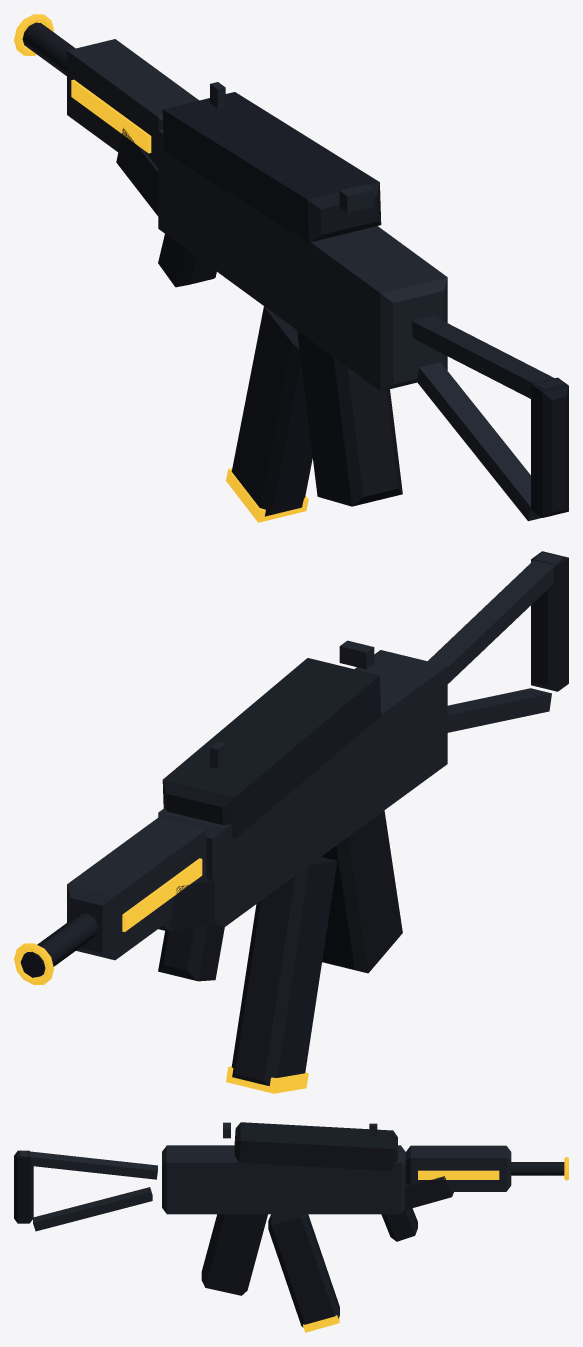
The model's file is weapon_wasp.glb.
3 views of the same model, one above another, from view 1: azimuth 30°, elevation 25°; view 2: azimuth 150°, elevation 25°; view 3: azimuth 270°, elevation 25° (orthographic). The views are drawn at different scales.
Visible parts, largest first — view 1: weapon_wasp; view 2: weapon_wasp; view 3: weapon_wasp.
Boxes of the visible parts, left/top/right/bottom form: weapon_wasp: left=14, top=14, right=568, bottom=522; weapon_wasp: left=14, top=551, right=568, bottom=1093; weapon_wasp: left=14, top=1122, right=568, bottom=1332.
Size of the model in its own units: 0.054 by 0.2743 by 0.6829.
